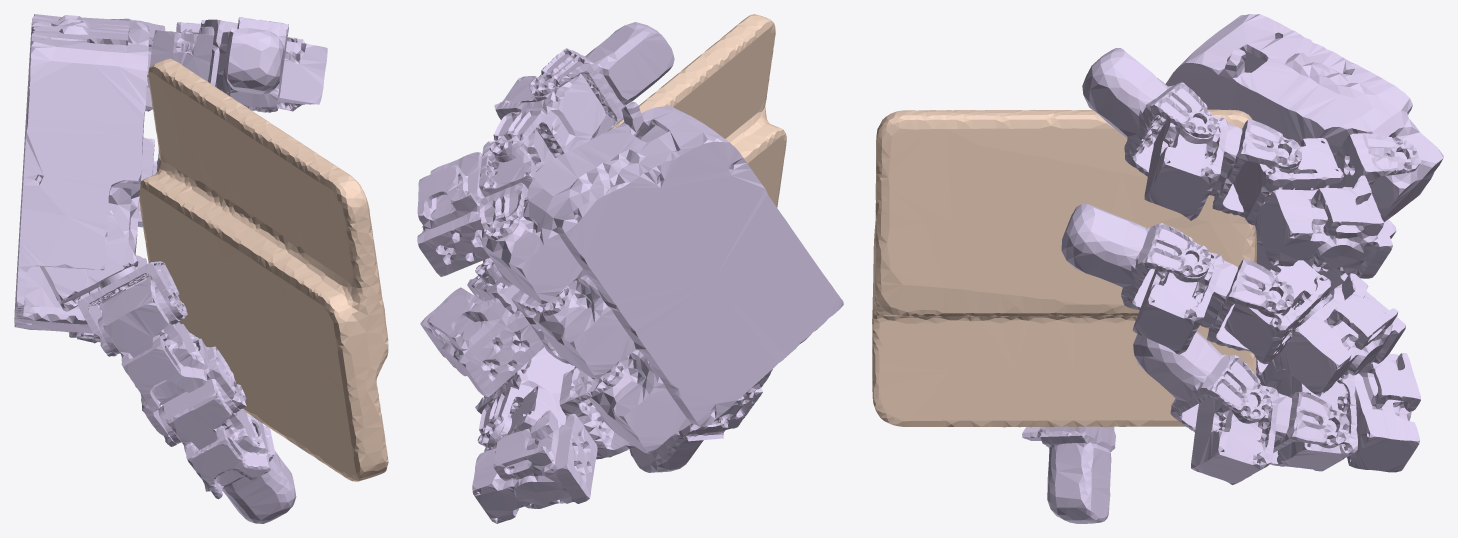
3 renders of one model, left to right at view 1: azimuth 30°, elevation 25°; view 2: azimuth 150°, elevation 25°; view 3: azimuth 270°, elevation 25°, orthographic. The views are drawn at different scales.
Parts seen in each view (by area): view 1: LEAP_hand, world; view 2: LEAP_hand, world; view 3: LEAP_hand, world.
Boxes of the visible parts, bbox=[...] form: LEAP_hand: bbox=[14, 14, 327, 523]; world: bbox=[139, 58, 388, 481]; LEAP_hand: bbox=[417, 22, 843, 523]; world: bbox=[574, 14, 786, 368]; LEAP_hand: bbox=[1022, 14, 1443, 523]; world: bbox=[872, 109, 1256, 427].
Size of the model in its own units: 0.1601 by 0.2063 by 0.2266.
